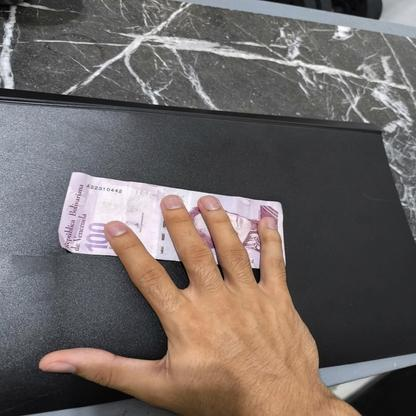one_hundred-front-vef: (57, 171, 286, 268)
